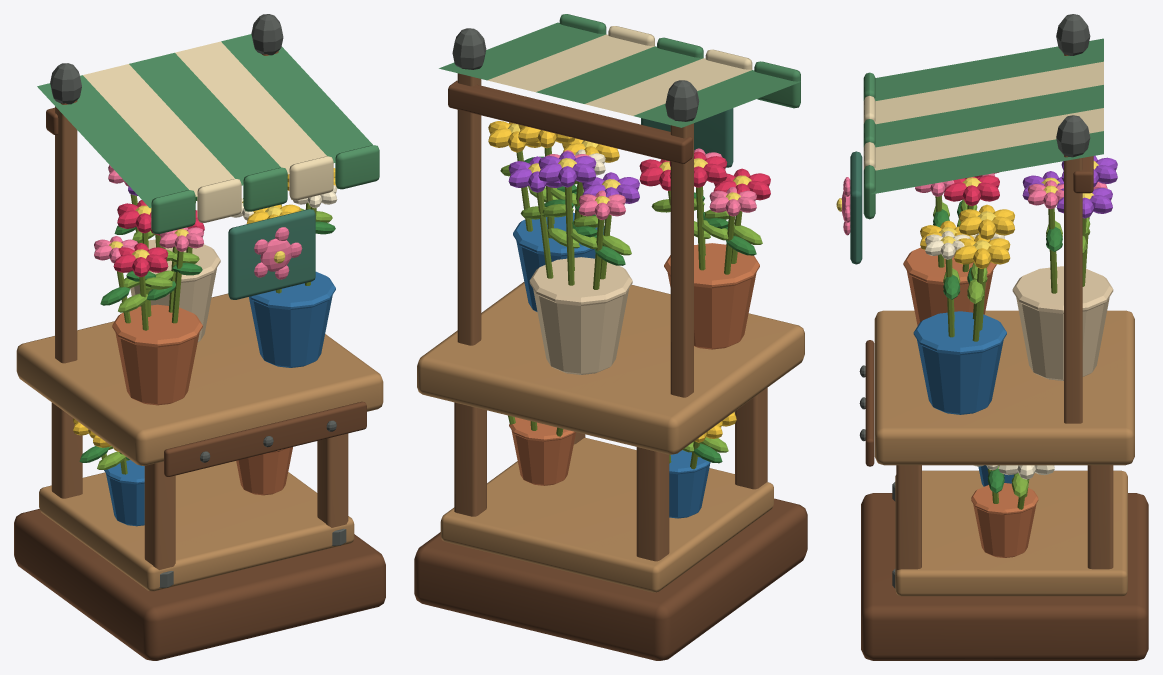
File: banca_flores.glb
3 renders of one model, left to right at view 1: azimuth 30°, elevation 25°; view 2: azimuth 150°, elevation 25°; view 3: azimuth 270°, elevation 25°, orthographic. The views are drawn at different scales.
Parts seen in each view (by area): view 1: Banca | base; view 2: Banca | base; view 3: Banca | base.
Part boxes in pixels (x1=…): Banca | base: x1=14, y1=14, x2=385, y2=660; Banca | base: x1=414, y1=14, x2=807, y2=660; Banca | base: x1=836, y1=14, x2=1148, y2=660.
Bounding box in the file's own units: 0.8715 × 1.74 × 0.912.
